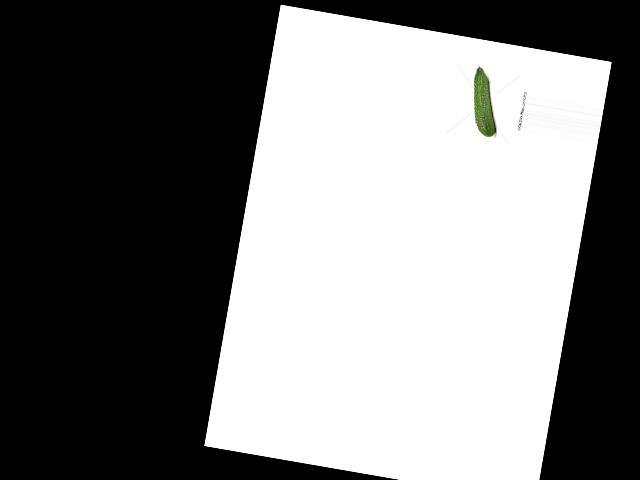cucumber: (465, 65, 506, 137)
